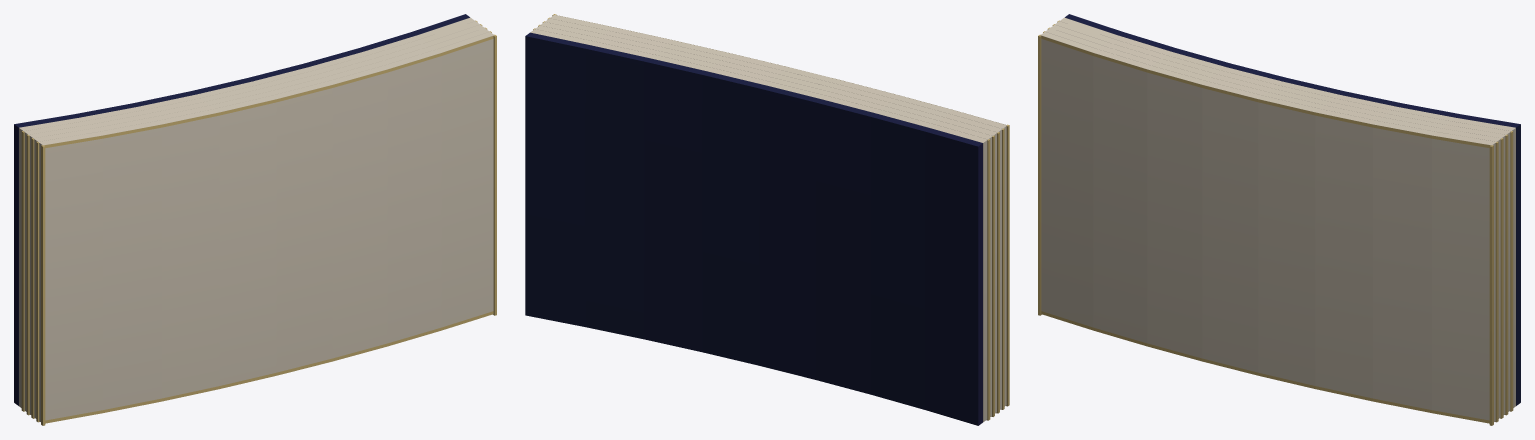
Rendered from page-wall.glb.
The picture shows the model from 3 angles, left to right: view 1: azimuth 30°, elevation 25°; view 2: azimuth 150°, elevation 25°; view 3: azimuth 330°, elevation 25°; orthographic projection.
Visible parts, largest first — view 1: lid_mesh; view 2: lid_mesh; view 3: lid_mesh.
Part boxes in pixels (x1,y1,x2,y2): lid_mesh: (14,14,496,425); lid_mesh: (525,14,1009,425); lid_mesh: (1038,14,1520,425).
Size of the model in its own units: 8.5 by 5 by 1.2.
